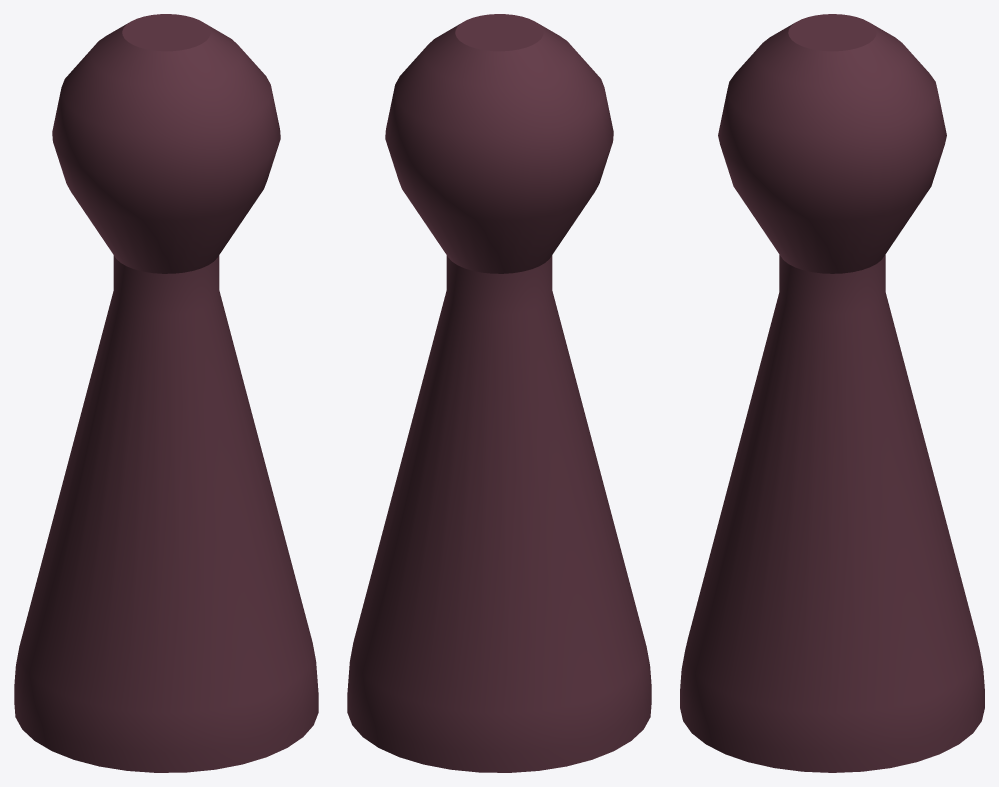
Rendered from piecemaroon.fbx.
3 views of the same model, side by side, from view 1: azimuth 30°, elevation 25°; view 2: azimuth 150°, elevation 25°; view 3: azimuth 270°, elevation 25° (orthographic).
Parts seen in each view (by area): view 1: PieceBeige; view 2: PieceBeige; view 3: PieceBeige.
Part boxes in pixels (bbox=[...]): PieceBeige: bbox=[14, 14, 318, 772]; PieceBeige: bbox=[347, 14, 651, 772]; PieceBeige: bbox=[680, 14, 984, 772].
Bounding box in the file's own units: 55.11 × 135 × 55.11.
